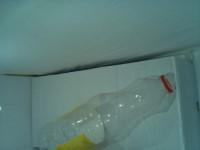bottle: (34, 70, 178, 150)
